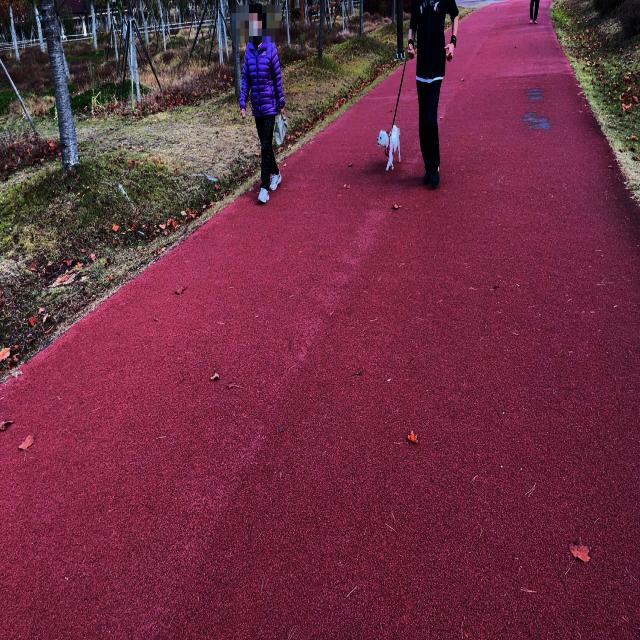Leashed_Dog: (377, 34, 432, 172)
